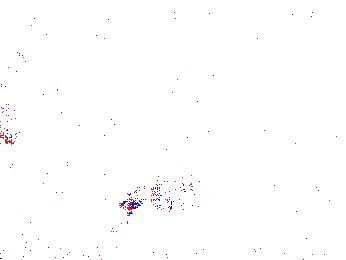flame jellyfish: (1, 48, 56, 145), (269, 173, 346, 228), (119, 168, 197, 221)
